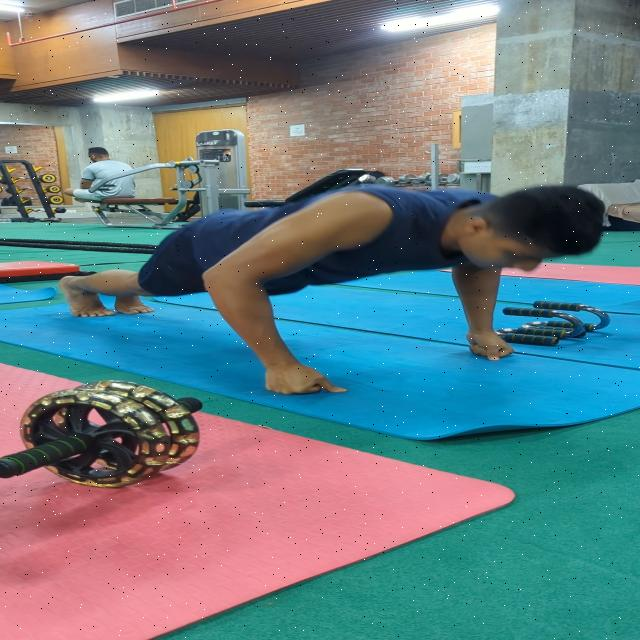Normal_PushUps: (44, 176, 610, 402)
